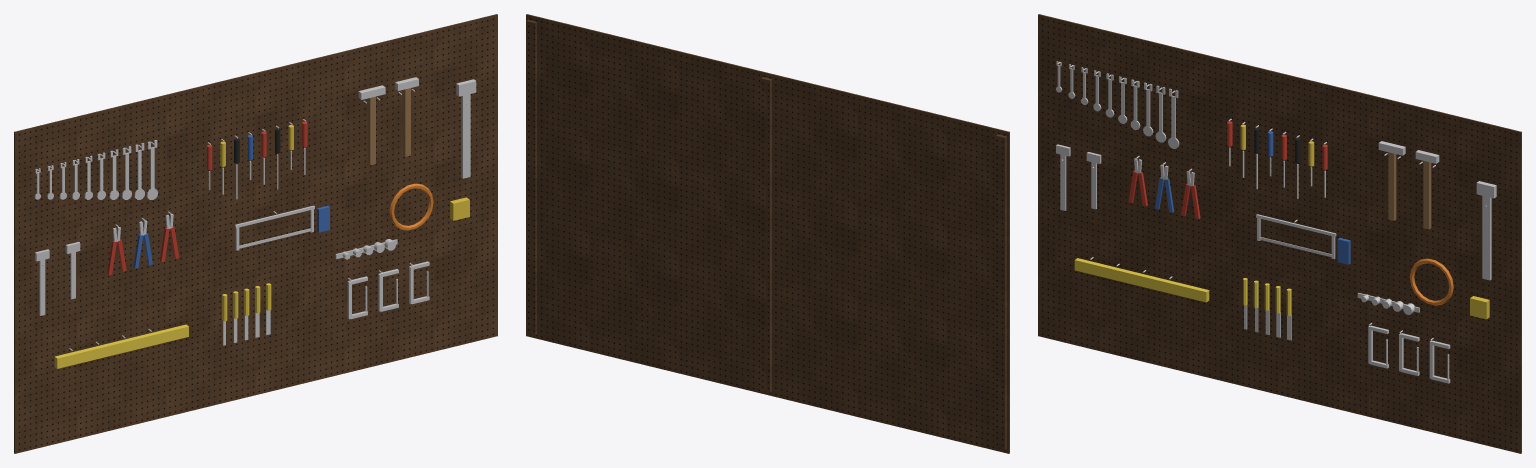
File: pegboard-tools.glb
3 views of the same model, side by side, from view 1: azimuth 30°, elevation 25°; view 2: azimuth 150°, elevation 25°; view 3: azimuth 330°, elevation 25° (orthographic).
Parts seen in each view (by area): view 1: pegboard; view 2: pegboard; view 3: pegboard.
Part boxes in pixels (x1,y1,x2,y2): pegboard: [14, 14, 497, 453]; pegboard: [526, 14, 1009, 453]; pegboard: [1038, 14, 1521, 453].
Bounding box in the file's own units: 2.2 × 1.4 × 0.05.
3 materials, 1 textured.
